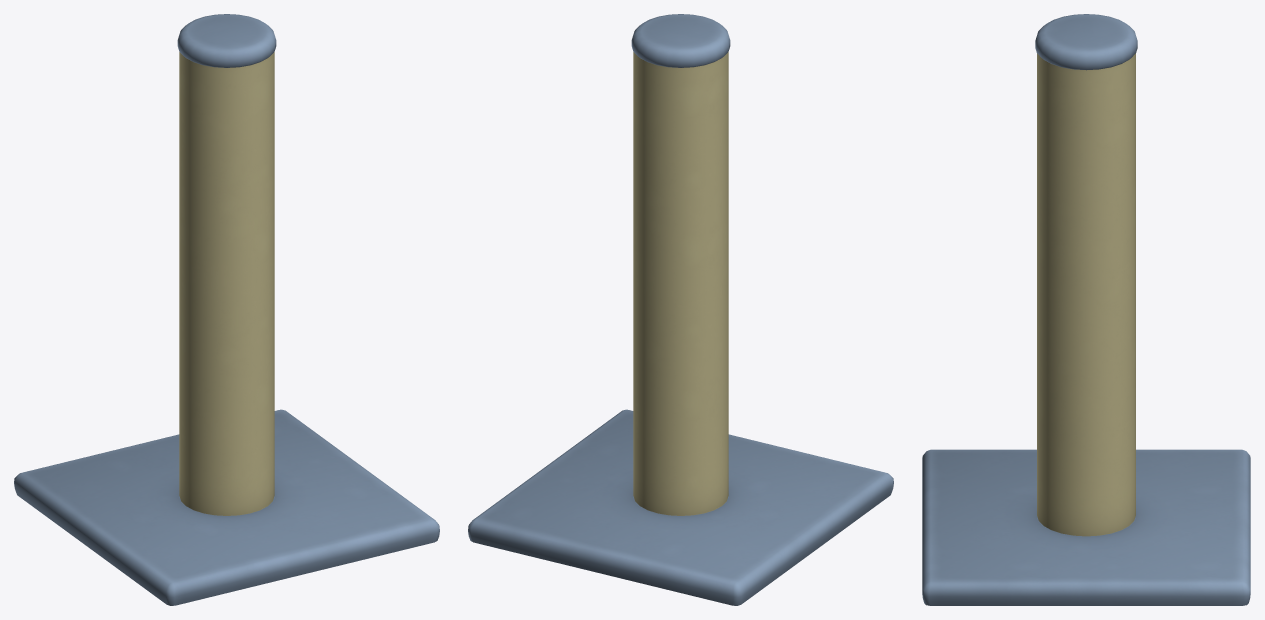
File: ScratchingPost.fbx
The picture shows the model from 3 angles, left to right: view 1: azimuth 30°, elevation 25°; view 2: azimuth 150°, elevation 25°; view 3: azimuth 270°, elevation 25°; orthographic projection. The views are drawn at different scales.
Parts seen in each view (by area): view 1: ScratchingPost; view 2: ScratchingPost; view 3: ScratchingPost.
Boxes of the visible parts, left/top/right/bottom form: ScratchingPost: left=14, top=14, right=439, bottom=605; ScratchingPost: left=468, top=14, right=893, bottom=605; ScratchingPost: left=922, top=14, right=1250, bottom=605.
Bounding box in the file's own units: 0.3858 × 0.6549 × 0.3858.
